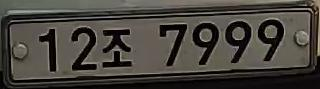1: (37, 24, 66, 76)
2: (69, 24, 100, 72)
7: (155, 21, 190, 68)
9: (190, 20, 221, 68), (256, 16, 287, 64), (222, 19, 255, 64)
조: (101, 23, 134, 69)
